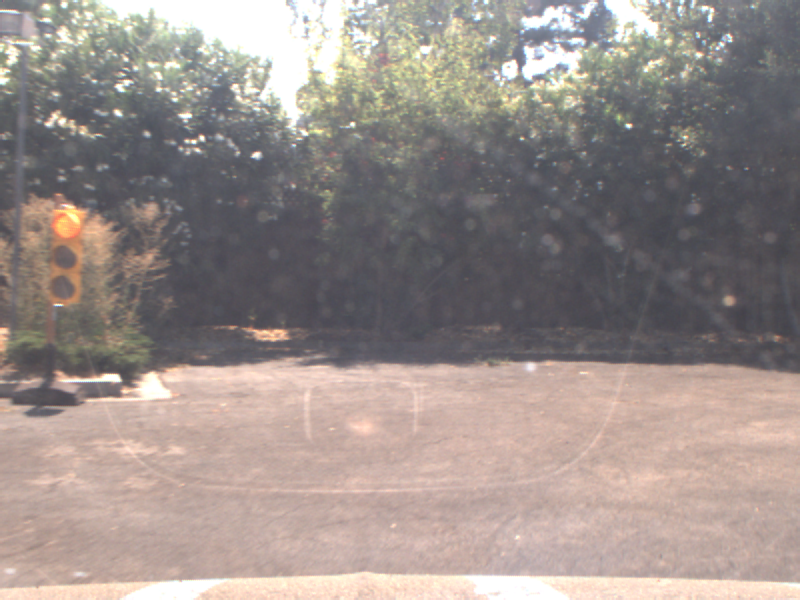red: (45, 204, 83, 306)
